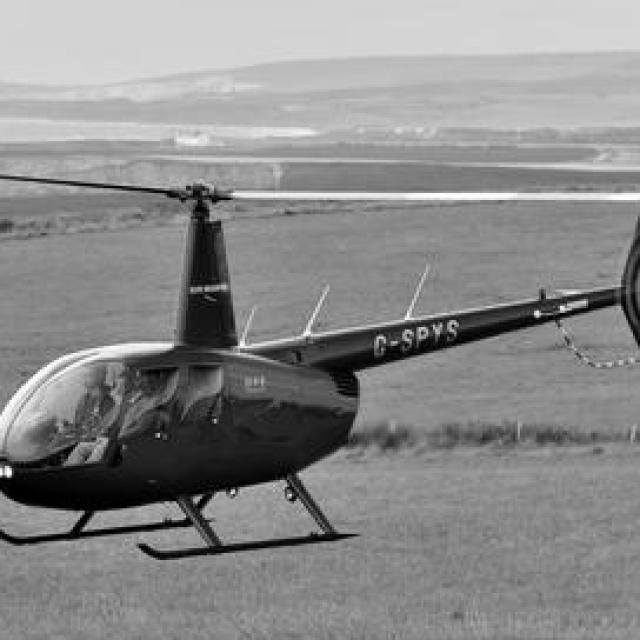helicopter: (1, 161, 640, 566)
